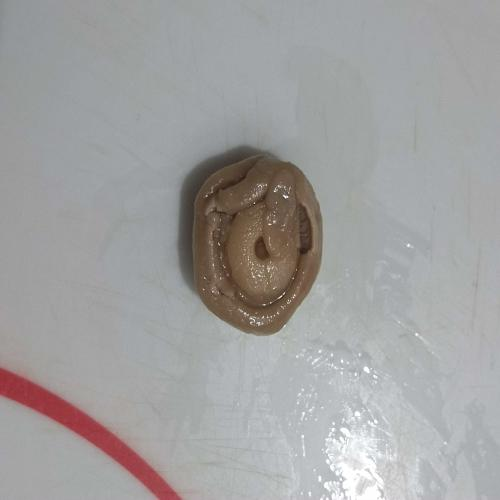Button Mushroom: (193, 155, 322, 334)
